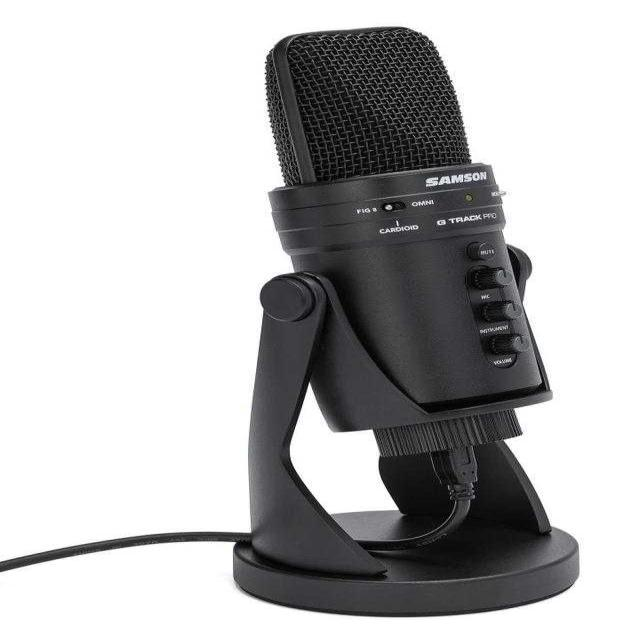microphone: (244, 26, 564, 613), (260, 20, 499, 246)
